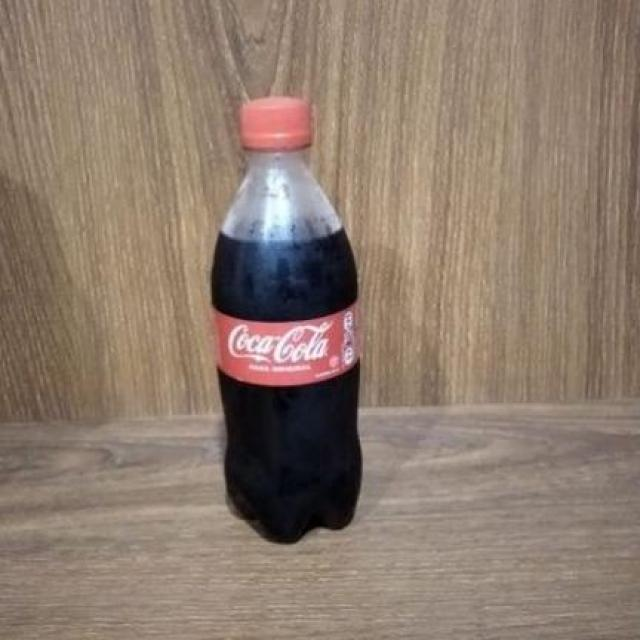high: (210, 96, 361, 541)
